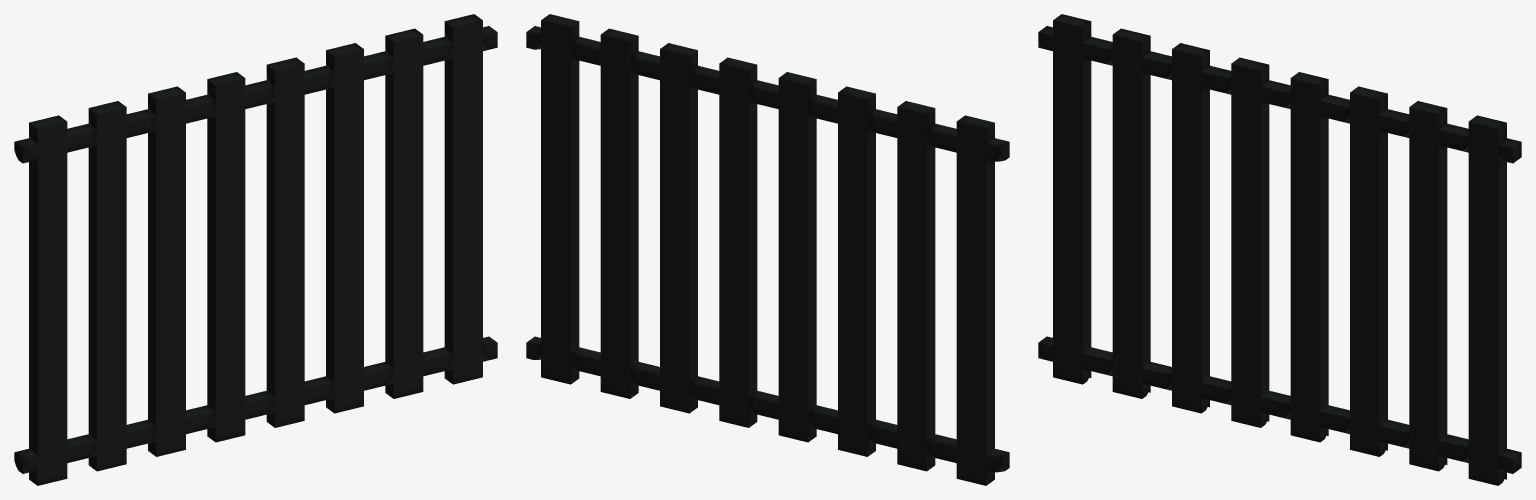
Rendered from kraty_woda_kanal.dae.
The picture shows the model from 3 angles, left to right: view 1: azimuth 30°, elevation 25°; view 2: azimuth 150°, elevation 25°; view 3: azimuth 330°, elevation 25°; orthographic projection.
Parts seen in each view (by area): view 1: Content; view 2: Content; view 3: Content.
Part boxes in pixels (box(x1,y1,x2,y2)): Content: box(14, 14, 497, 485); Content: box(526, 14, 1009, 485); Content: box(1038, 14, 1521, 485).
Size of the model in its own units: 32 by 23 by 1.
1 material, 1 textured.
